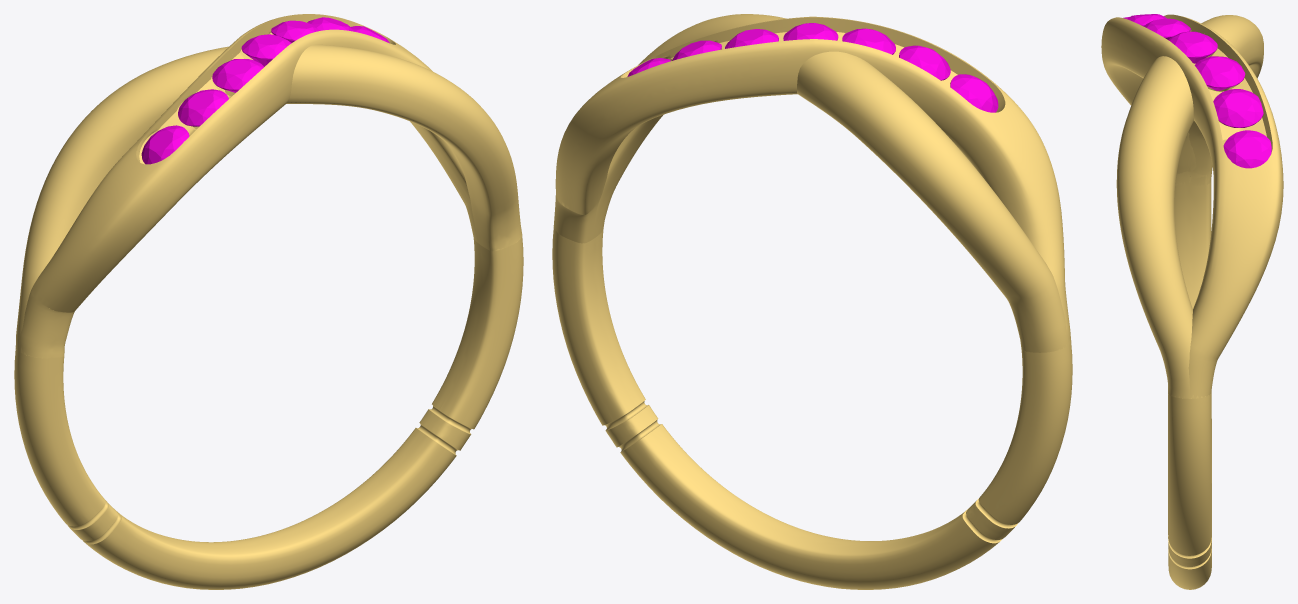
The model's file is DaniellePinkYGwb.glb.
3 views of the same model, side by side, from view 1: azimuth 30°, elevation 25°; view 2: azimuth 150°, elevation 25°; view 3: azimuth 270°, elevation 25° (orthographic). The views are drawn at different scales.
Visible parts, largest first — view 1: Danielle YG new for 3d model, Danielle pink sapphire for 3d model.005, Danielle pink sapphire for 3d model.006, Danielle pink sapphire for 3d model.004, Danielle pink sapphire for 3d model.003, Danielle pink sapphire for 3d model.002; view 2: Danielle YG new for 3d model, Danielle pink sapphire for 3d model.006, Danielle pink sapphire for 3d model.005, Danielle pink sapphire for 3d model.004, Danielle pink sapphire for 3d model.003, Danielle pink sapphire for 3d model.002; view 3: Danielle YG new for 3d model, Danielle pink sapphire for 3d model.001, Danielle pink sapphire for 3d model, Danielle pink sapphire for 3d model.002, Danielle pink sapphire for 3d model.003, Danielle pink sapphire for 3d model.004, Danielle pink sapphire for 3d model.005.
Boxes of the visible parts, left/top/right/bottom form: Danielle YG new for 3d model: left=14, top=14, right=523, bottom=589; Danielle pink sapphire for 3d model.005: left=178, top=89, right=228, bottom=126; Danielle pink sapphire for 3d model.006: left=141, top=125, right=189, bottom=164; Danielle pink sapphire for 3d model.004: left=212, top=59, right=263, bottom=92; Danielle pink sapphire for 3d model.003: left=241, top=34, right=291, bottom=66; Danielle pink sapphire for 3d model.002: left=271, top=20, right=319, bottom=42; Danielle YG new for 3d model: left=552, top=14, right=1072, bottom=589; Danielle pink sapphire for 3d model.006: left=950, top=74, right=998, bottom=112; Danielle pink sapphire for 3d model.005: left=899, top=45, right=950, bottom=80; Danielle pink sapphire for 3d model.004: left=842, top=28, right=895, bottom=54; Danielle pink sapphire for 3d model.003: left=783, top=23, right=838, bottom=40; Danielle pink sapphire for 3d model.002: left=725, top=29, right=778, bottom=48; Danielle YG new for 3d model: left=1101, top=14, right=1283, bottom=589; Danielle pink sapphire for 3d model.001: left=1213, top=89, right=1263, bottom=127; Danielle pink sapphire for 3d model: left=1223, top=130, right=1271, bottom=168; Danielle pink sapphire for 3d model.002: left=1194, top=56, right=1245, bottom=90; Danielle pink sapphire for 3d model.003: left=1168, top=31, right=1217, bottom=63; Danielle pink sapphire for 3d model.004: left=1144, top=18, right=1190, bottom=39; Danielle pink sapphire for 3d model.005: left=1127, top=14, right=1166, bottom=26.
Size of the model in its own units: 19.47 by 20.04 by 6.27.
